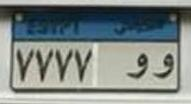7: (54, 47, 73, 84), (35, 46, 53, 84), (74, 46, 92, 83), (15, 47, 32, 84)
waw: (125, 52, 149, 82), (152, 53, 175, 83)
